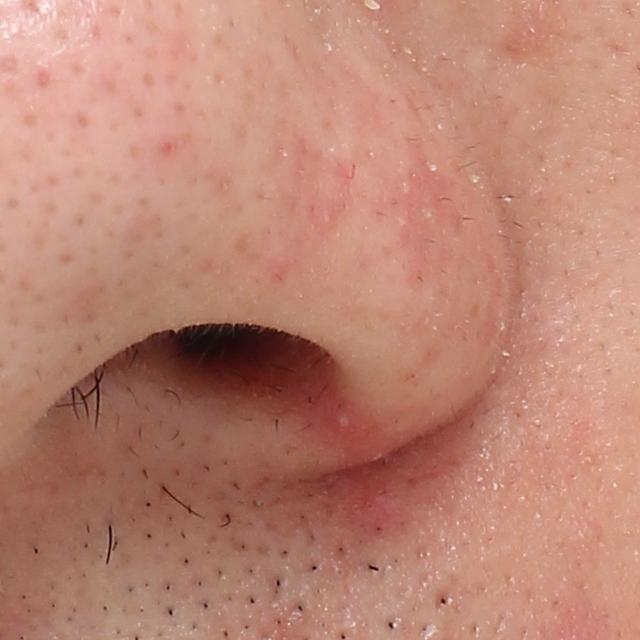pustule: (332, 410, 354, 434)
